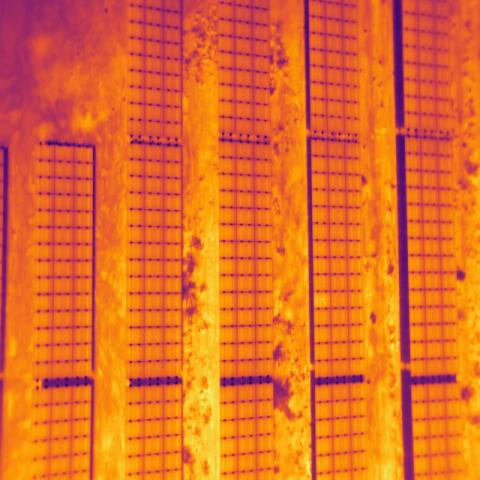fault: (313, 291, 330, 308)
